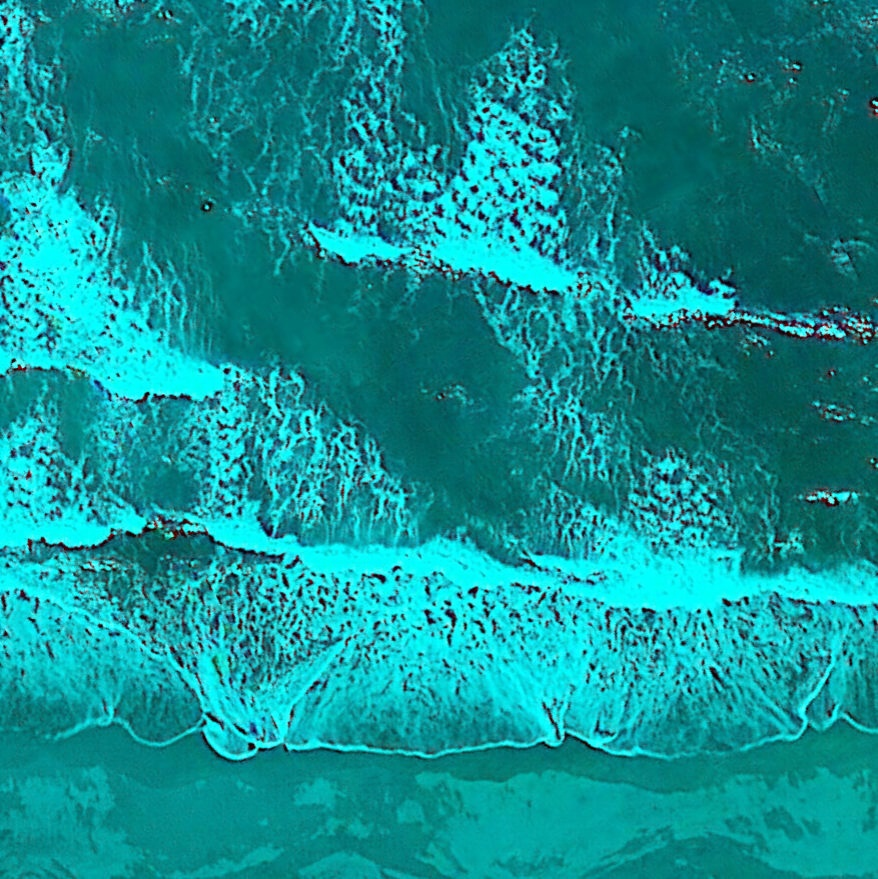rip_current: (79, 92, 628, 542)
